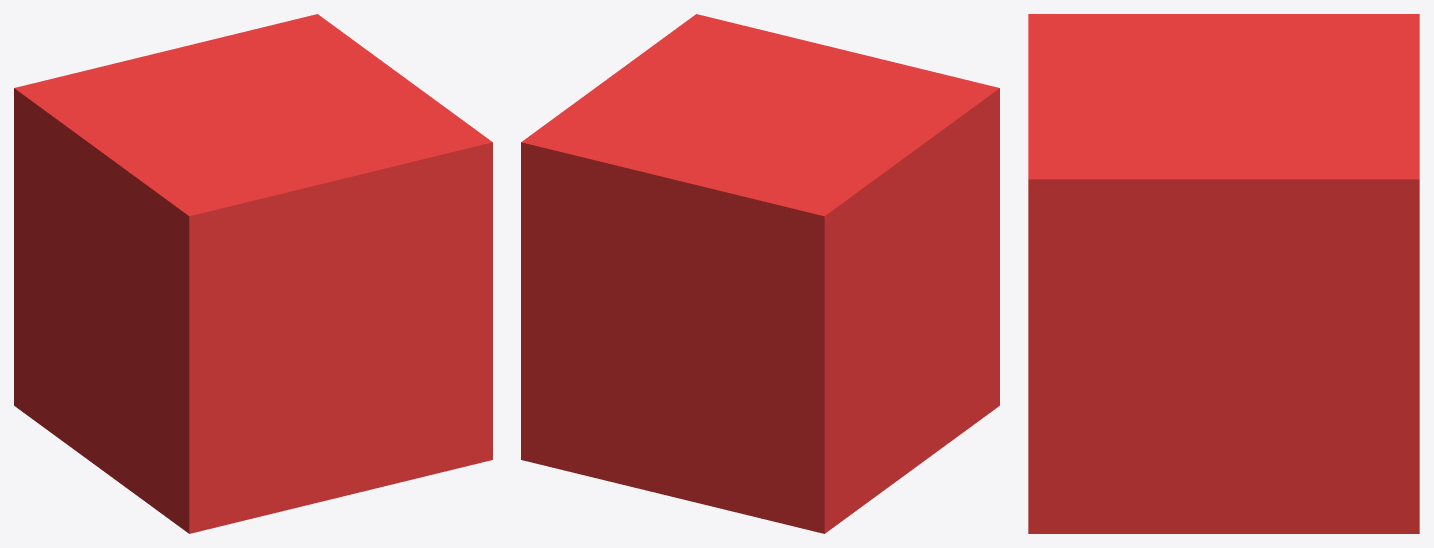
The model's file is Hoge.obj.
3 renders of one model, left to right at view 1: azimuth 30°, elevation 25°; view 2: azimuth 150°, elevation 25°; view 3: azimuth 270°, elevation 25°, orthographic. The views are drawn at different scales.
Size of the model in its own units: 4 by 4 by 4.
1 material, 1 textured.
